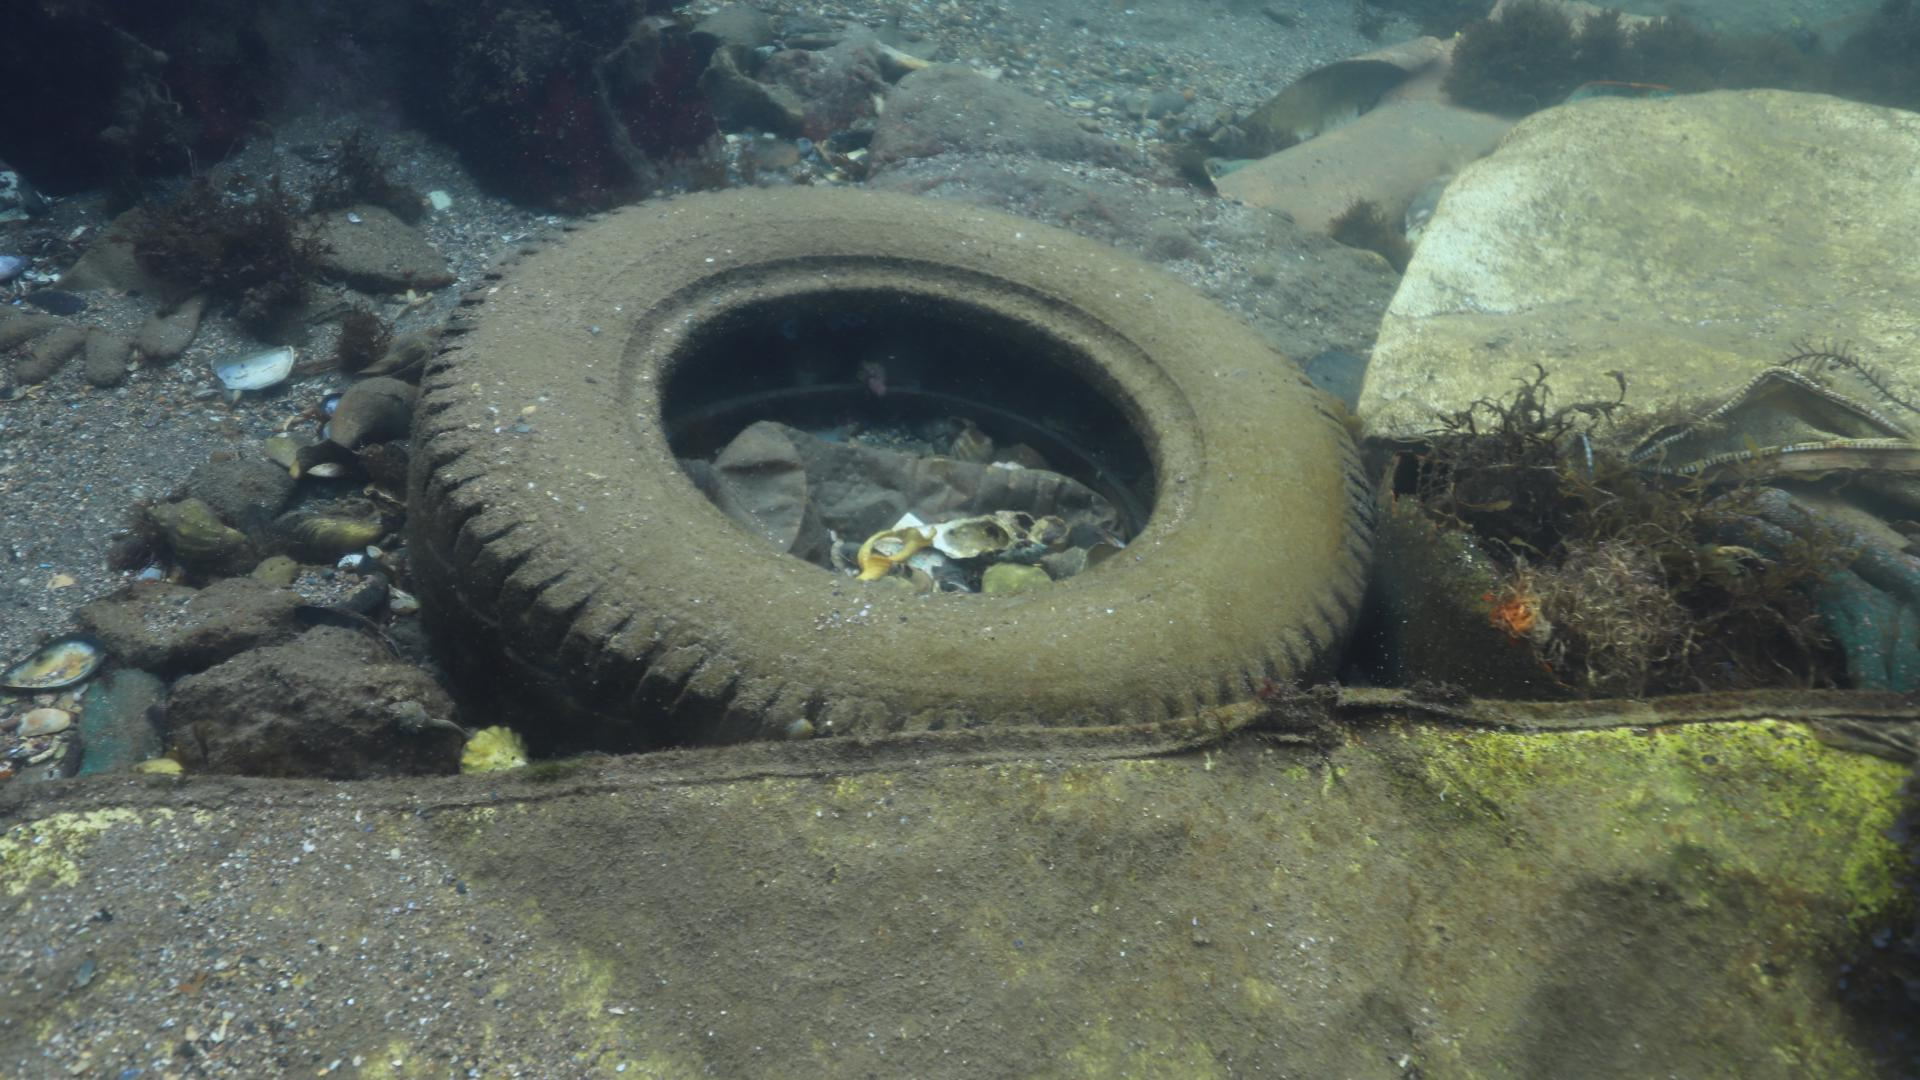tire: (409, 179, 1375, 760)
